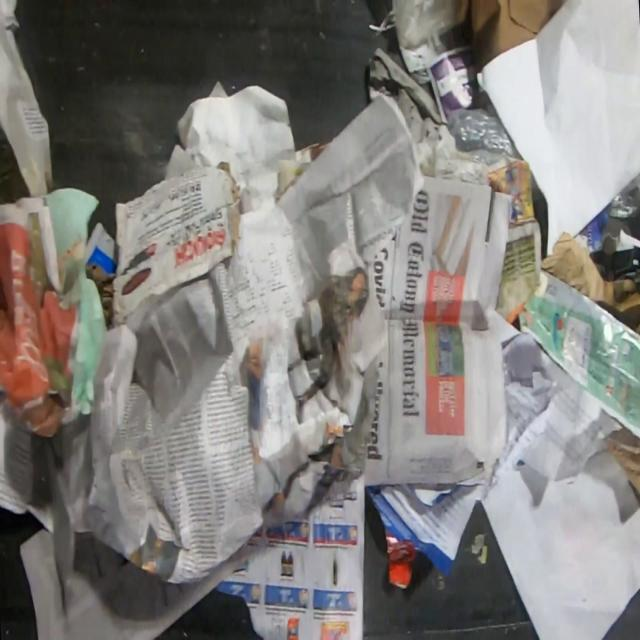cardboard: (110, 159, 242, 323), (538, 230, 639, 335), (604, 422, 640, 499)
rigid_plastic: (590, 244, 640, 282)
soft_plastic: (446, 102, 524, 160), (387, 0, 455, 57), (607, 170, 640, 220)
